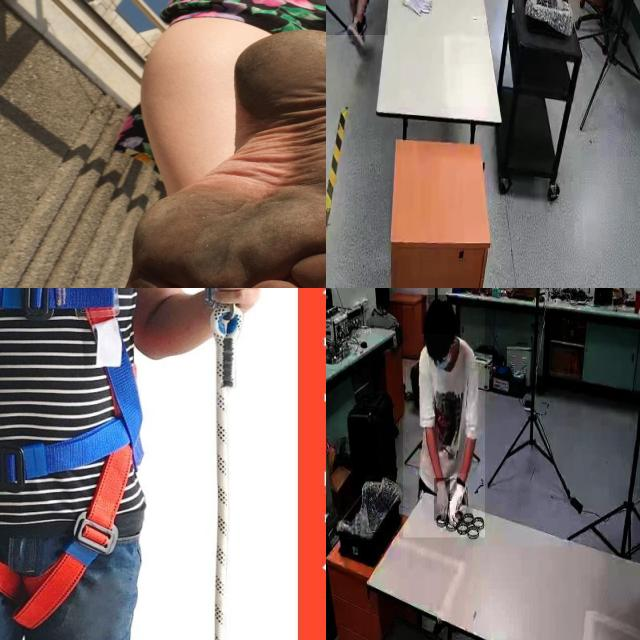Barefoots: (100, 29, 326, 288)
Harness: (0, 288, 147, 571)
hand_glove: (450, 473, 466, 525), (434, 478, 450, 521)
head_nohelmet: (422, 295, 458, 335)
person: (403, 303, 485, 538)
shoes: (344, 8, 369, 54)
